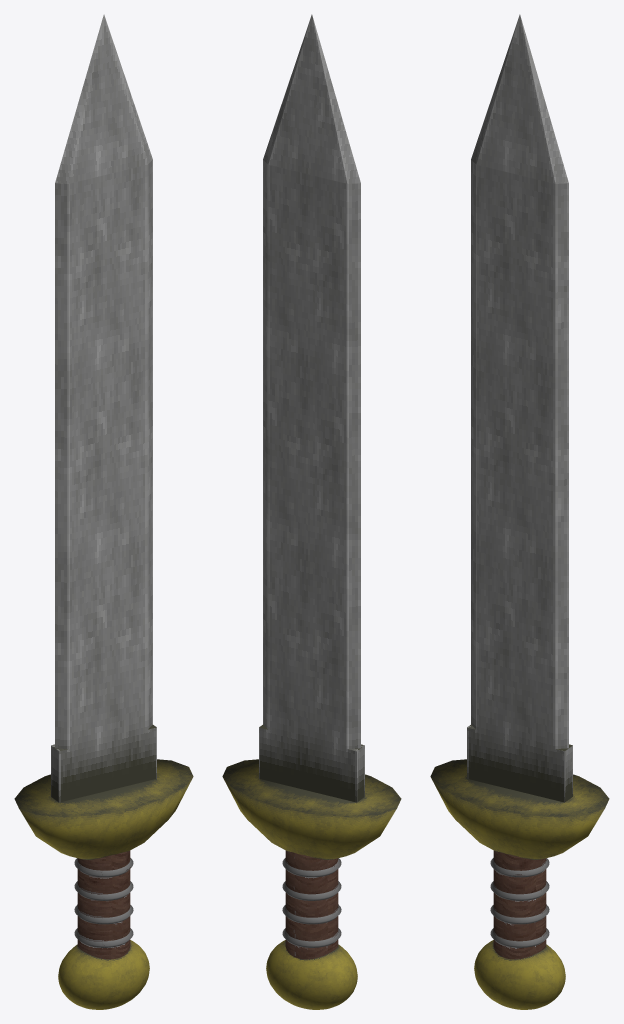
The model's file is sword.gltf.
The picture shows the model from 3 angles, left to right: view 1: azimuth 30°, elevation 25°; view 2: azimuth 150°, elevation 25°; view 3: azimuth 330°, elevation 25°; orthographic projection.
Visible parts, largest first — view 1: Sphere.002; view 2: Sphere.002; view 3: Sphere.002.
Part boxes in pixels (x1=…): Sphere.002: x1=14, y1=14, x2=193, y2=1009; Sphere.002: x1=222, y1=14, x2=401, y2=1009; Sphere.002: x1=430, y1=14, x2=609, y2=1009.
Size of the model in its own units: 0.3425 by 1.91 by 0.2.
Materials: 4 (4 with a texture image).
